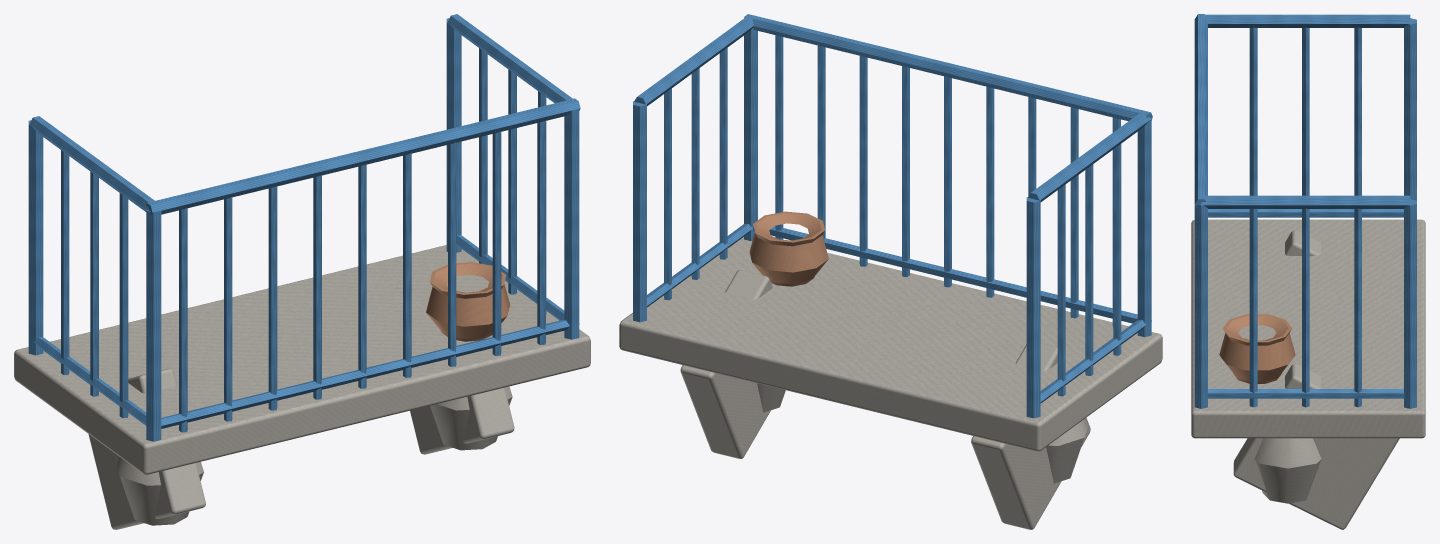
The model's file is balcony.glb.
3 views of the same model, side by side, from view 1: azimuth 30°, elevation 25°; view 2: azimuth 150°, elevation 25°; view 3: azimuth 270°, elevation 25° (orthographic). The views are drawn at different scales.
Visible parts, largest first — view 1: house-balcony; view 2: house-balcony; view 3: house-balcony.
Part boxes in pixels (x1,y1,x2,y2): house-balcony: (14, 14, 590, 529); house-balcony: (619, 14, 1162, 529); house-balcony: (1191, 14, 1425, 529).
Size of the model in its own units: 1.8 by 1.52 by 0.9201.
Materials: 3 (3 with a texture image).
